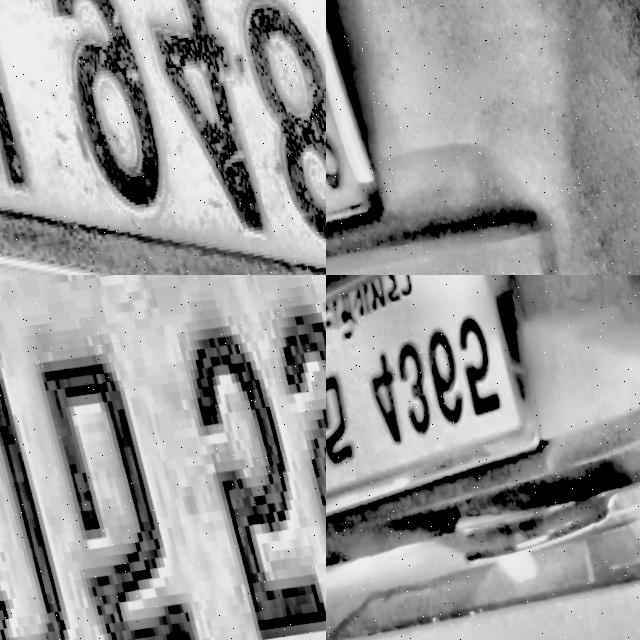license-plate: (0, 275, 326, 640), (0, 0, 326, 275), (326, 275, 513, 493)
